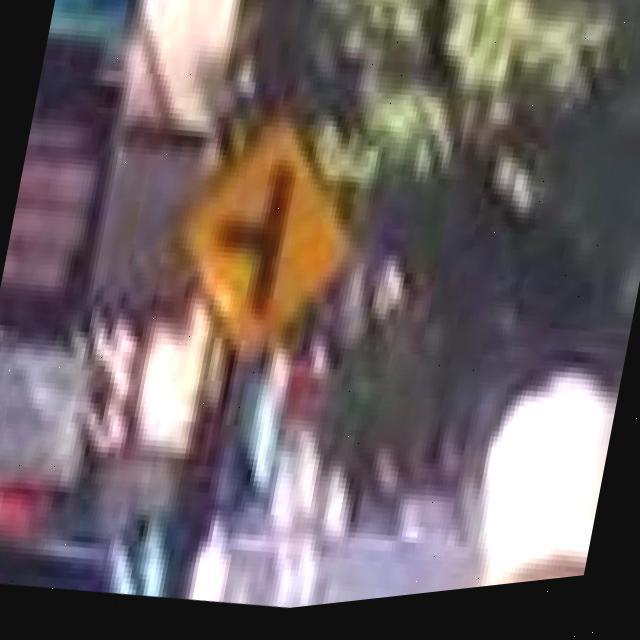Persimpangan 3 Sisi Kiri: (167, 97, 377, 386)
